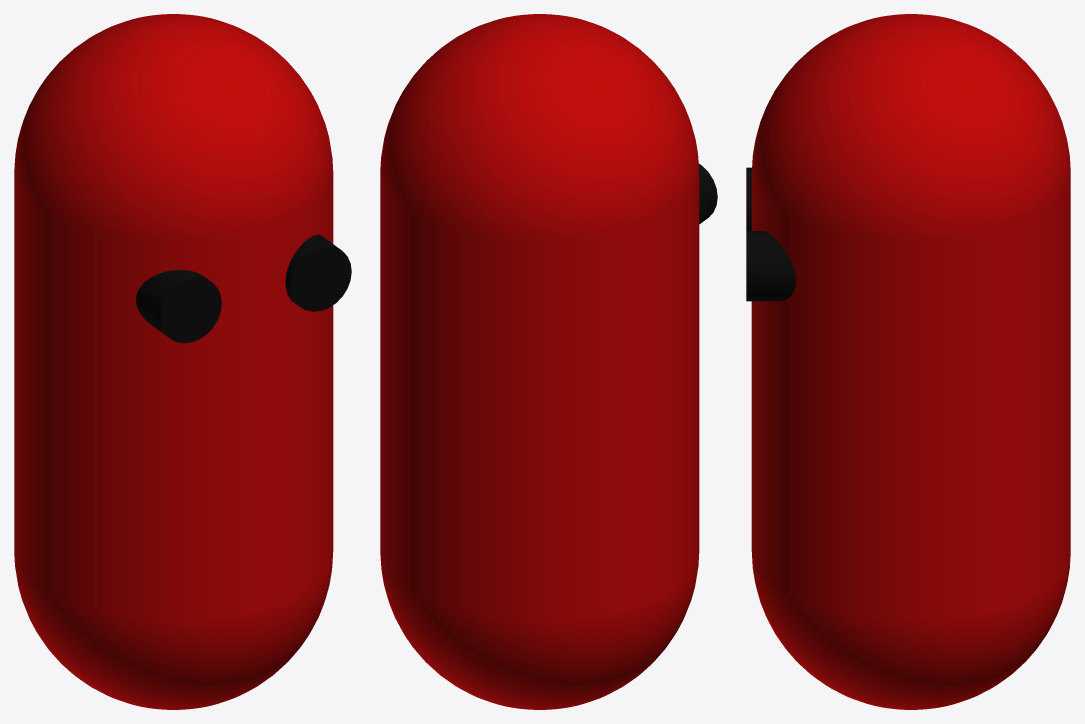
The model's file is bean3.glb.
3 views of the same model, side by side, from view 1: azimuth 30°, elevation 25°; view 2: azimuth 150°, elevation 25°; view 3: azimuth 270°, elevation 25° (orthographic).
Parts seen in each view (by area): view 1: bean2.glb; view 2: bean2.glb; view 3: bean2.glb.
Boxes of the visible parts, <box> form: bean2.glb: <box>14,14,351,709</box>; bean2.glb: <box>380,14,717,709</box>; bean2.glb: <box>746,14,1070,709</box>.
Bounding box in the file's own units: 1.58 × 3.65 × 1.61.
